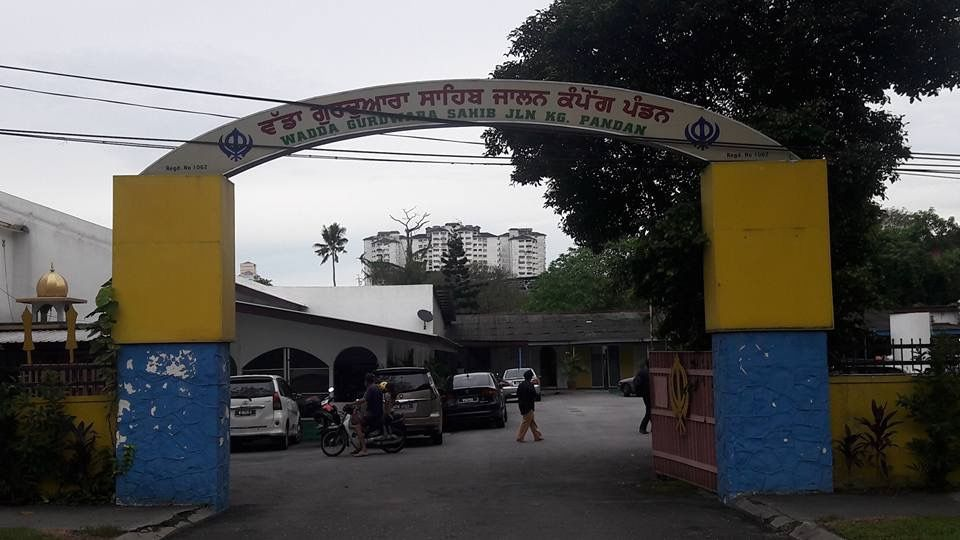Gurdwara: (117, 49, 804, 452)
